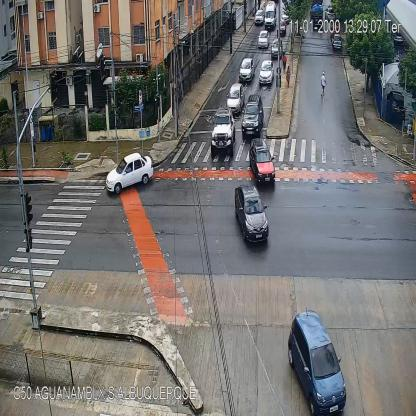car: (288, 312, 347, 416), (235, 185, 269, 248), (105, 152, 154, 195), (249, 138, 276, 184), (212, 108, 234, 154), (241, 94, 262, 138), (227, 82, 243, 113), (260, 60, 273, 87), (240, 57, 253, 82), (264, 1, 276, 26), (258, 30, 270, 47), (271, 41, 282, 58), (254, 9, 264, 26), (277, 20, 286, 36), (333, 35, 342, 47)
person: (320, 71, 326, 97), (32, 135, 37, 163), (285, 64, 291, 86), (282, 51, 287, 73)
truck: (310, 2, 322, 29)
